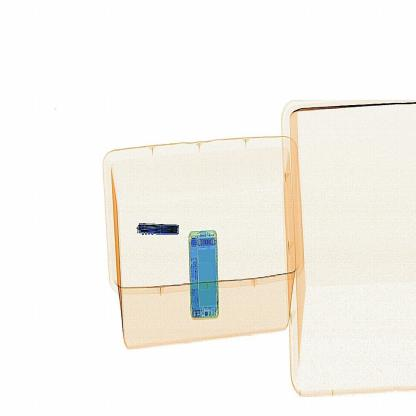scissors: (138, 218, 186, 239)
